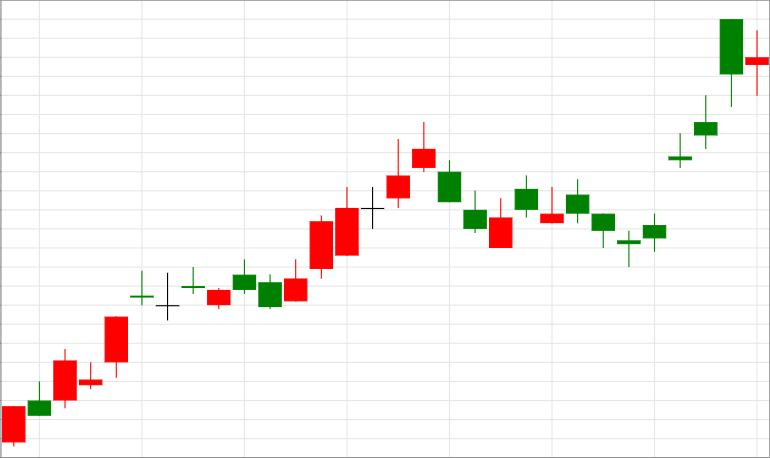evening_star_fall: (284, 123, 460, 303)
shooting_star_fall: (285, 139, 410, 302)
